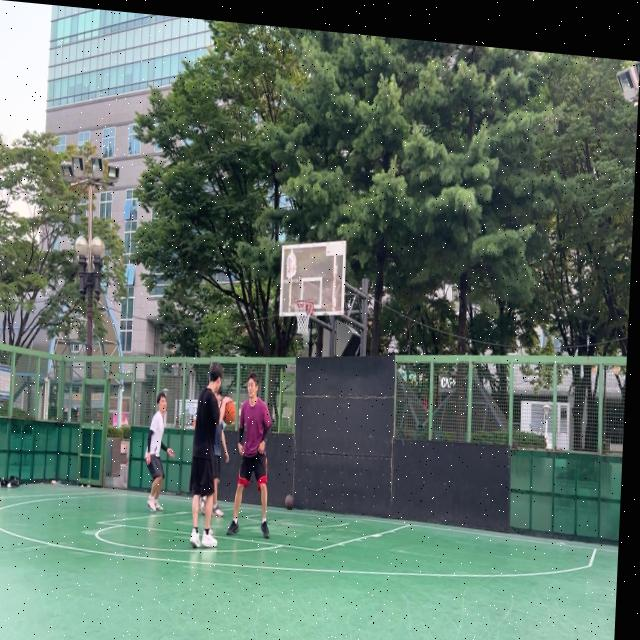basketball: (223, 399, 237, 426), (285, 493, 294, 511)
hoop: (292, 298, 315, 337)
